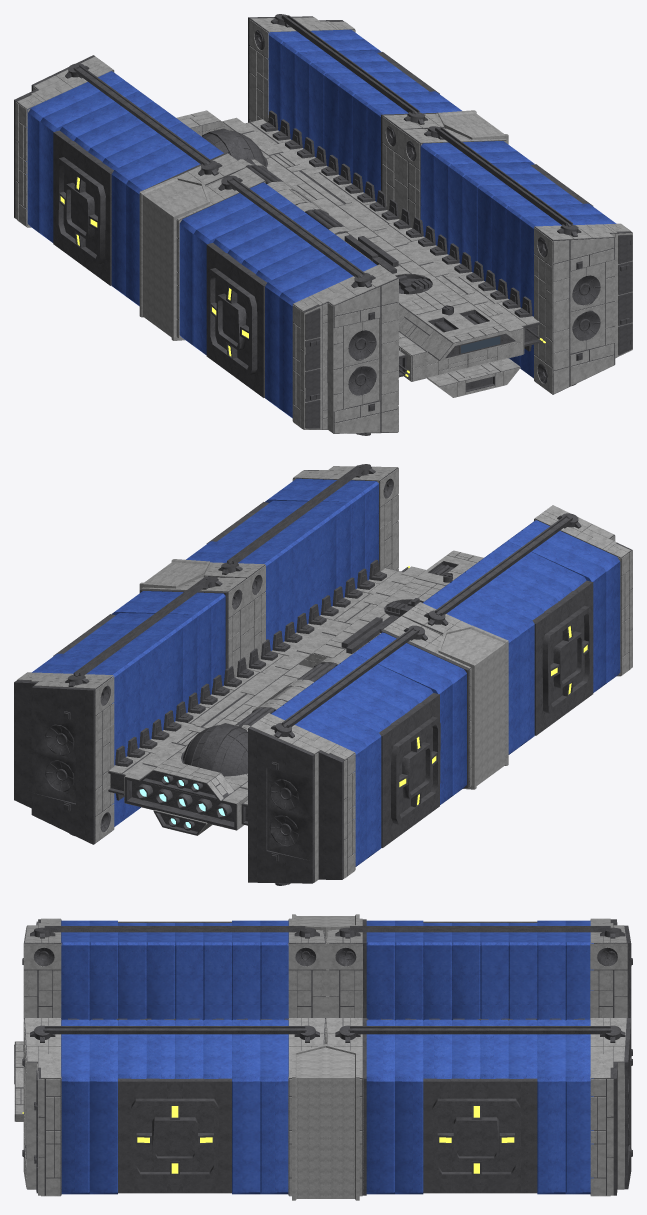
File: sw_bff1_freighter.glb
The picture shows the model from 3 angles, top to bottom: view 1: azimuth 30°, elevation 25°; view 2: azimuth 150°, elevation 25°; view 3: azimuth 270°, elevation 25°; orthographic projection.
Parts seen in each view (by area): view 1: Containers_1, ContainerHullPlates_0, Containers_0, MidSectionHullPlates_0, ControlSectionHullPlates_0, Docks_0, ContainerBracers_0, ContainerHolders_0, ControlSection_0, ContainerGreebles_0, MidSection_0, SphereHullPlates_0; view 2: Containers_1, Containers_0, ContainerHullPlates_0, MidSectionHullPlates_0, Docks_0, ContainerBracers_0, ContainerHolders_0, ControlSectionHullPlates_0, ControlSection_0, MidSection_0, SphereHullPlates_0, MidEngines_0; view 3: Containers_1, Containers_0, ContainerHullPlates_0, Docks_0, ContainerBracers_0, ControlSectionHullPlates_0, Docks_1.
Part boxes in pixels (<box>): Containers_1: <box>26,29,616,418</box>; ContainerHullPlates_0: <box>15,17,632,433</box>; Containers_0: <box>14,14,632,435</box>; MidSectionHullPlates_0: <box>222,117,539,381</box>; ControlSectionHullPlates_0: <box>176,110,520,397</box>; Docks_0: <box>56,157,257,375</box>; ContainerBracers_0: <box>139,110,508,340</box>; ContainerHolders_0: <box>260,110,532,351</box>; ControlSection_0: <box>190,121,519,392</box>; ContainerGreebles_0: <box>305,234,632,428</box>; MidSection_0: <box>224,119,543,381</box>; SphereHullPlates_0: <box>202,130,265,166</box>; Containers_1: <box>32,478,620,866</box>; Containers_0: <box>14,464,632,885</box>; ContainerHullPlates_0: <box>17,466,632,882</box>; MidSectionHullPlates_0: <box>108,566,425,830</box>; Docks_0: <box>391,605,592,824</box>; ContainerBracers_0: <box>139,559,508,789</box>; ContainerHolders_0: <box>115,559,386,800</box>; ControlSectionHullPlates_0: <box>140,550,483,835</box>; ControlSection_0: <box>140,552,473,835</box>; MidSection_0: <box>108,567,408,830</box>; SphereHullPlates_0: <box>183,725,247,775</box>; MidEngines_0: <box>135,783,231,819</box>; Containers_1: <box>61,920,593,1194</box>; Containers_0: <box>22,919,632,1195</box>; ContainerHullPlates_0: <box>23,918,627,1196</box>; Docks_0: <box>130,1098,520,1178</box>; ContainerBracers_0: <box>292,914,359,1200</box>; ControlSectionHullPlates_0: <box>14,1041,23,1121</box>; Docks_1: <box>137,1106,514,1173</box>.
Bounding box in the file's own units: 1.11 × 0.5015 × 1.75.
Materials: 6 (3 with a texture image).
